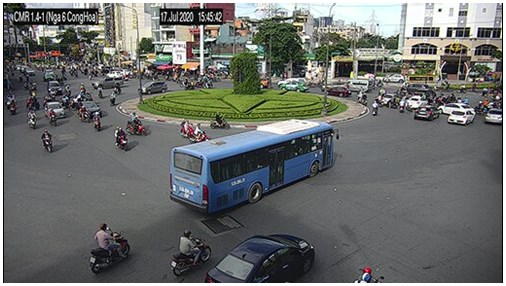xe_buyt: (168, 119, 340, 212)
xe_hoi: (447, 109, 474, 128), (92, 76, 125, 91), (439, 102, 470, 116), (78, 101, 101, 119), (139, 81, 167, 95), (46, 99, 65, 118), (416, 106, 439, 121), (403, 84, 429, 96), (280, 82, 307, 93), (484, 108, 502, 124), (407, 95, 426, 110), (278, 77, 308, 86), (326, 86, 350, 97), (383, 73, 405, 84), (47, 81, 61, 95), (382, 93, 397, 104), (42, 72, 53, 82)
xe_khach: (344, 78, 374, 92)
xe_may: (89, 222, 130, 275), (172, 228, 212, 277), (210, 110, 232, 130), (113, 125, 129, 152), (126, 118, 149, 136), (189, 125, 209, 145), (179, 118, 194, 137), (42, 128, 53, 153), (27, 109, 37, 129), (26, 94, 38, 110), (194, 78, 211, 89), (79, 105, 89, 123), (48, 108, 57, 127), (93, 111, 101, 132), (8, 98, 17, 116), (27, 84, 37, 98), (95, 83, 104, 98), (371, 99, 378, 117), (433, 92, 444, 103), (182, 80, 193, 90), (109, 91, 116, 104), (80, 82, 86, 95), (360, 92, 367, 103), (447, 94, 455, 101)
